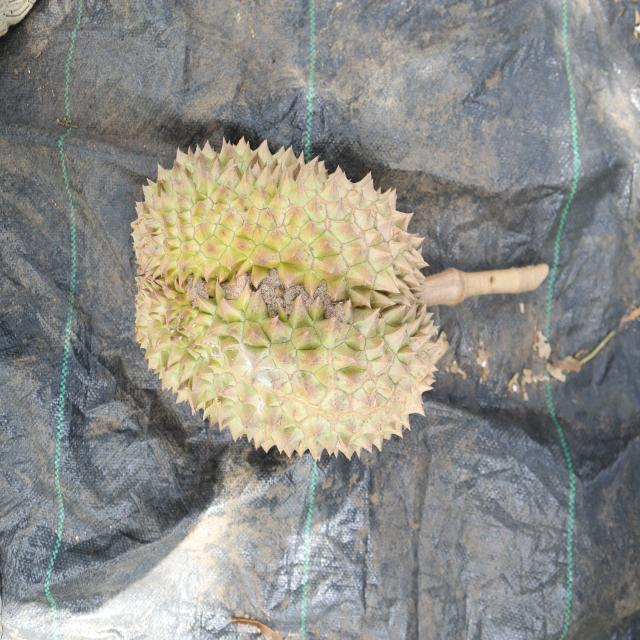mature: (128, 140, 448, 465)
